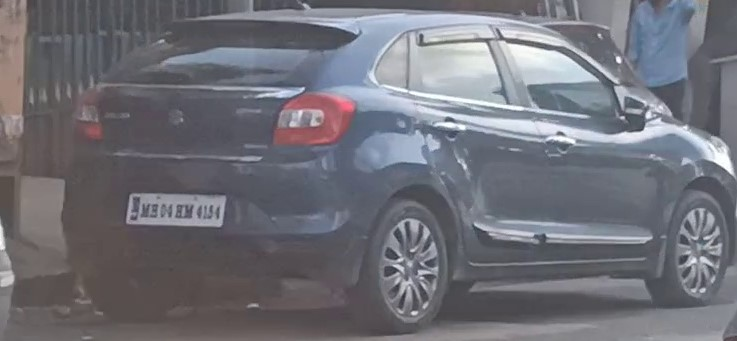MH04HM4154: (125, 192, 227, 228)
